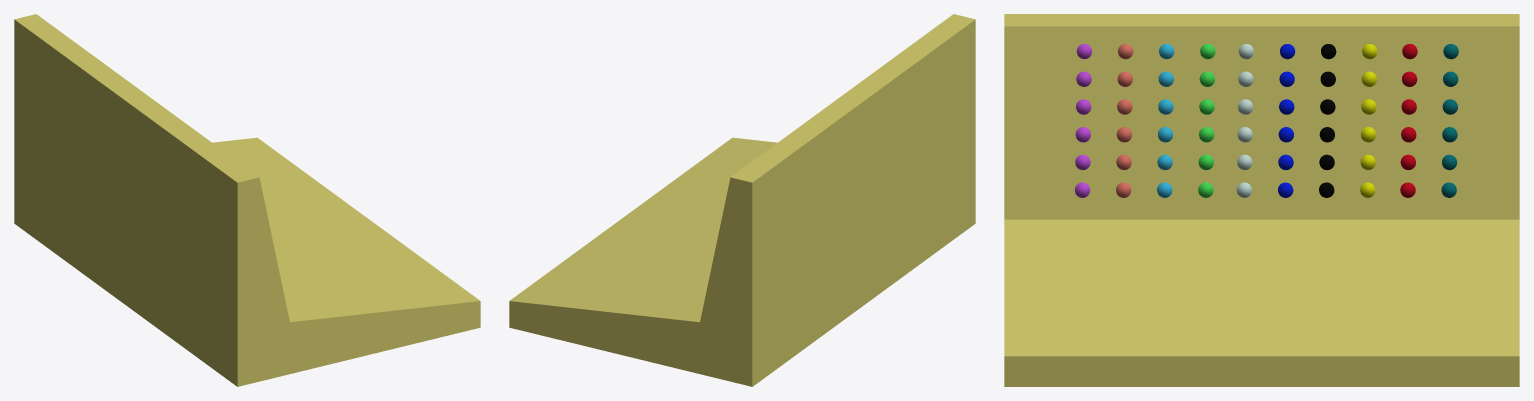
File: tablecolor.fbx
3 renders of one model, left to right at view 1: azimuth 30°, elevation 25°; view 2: azimuth 150°, elevation 25°; view 3: azimuth 270°, elevation 25°, orthographic. The views are drawn at different scales.
Visible parts, largest first — view 1: Cube; view 2: Cube; view 3: Cube.
Part boxes in pixels (<box>): Cube: <box>14,14,480,386</box>; Cube: <box>509,14,975,386</box>; Cube: <box>1004,14,1519,386</box>.
Bounding box in the file's own units: 415 × 333 × 660.
